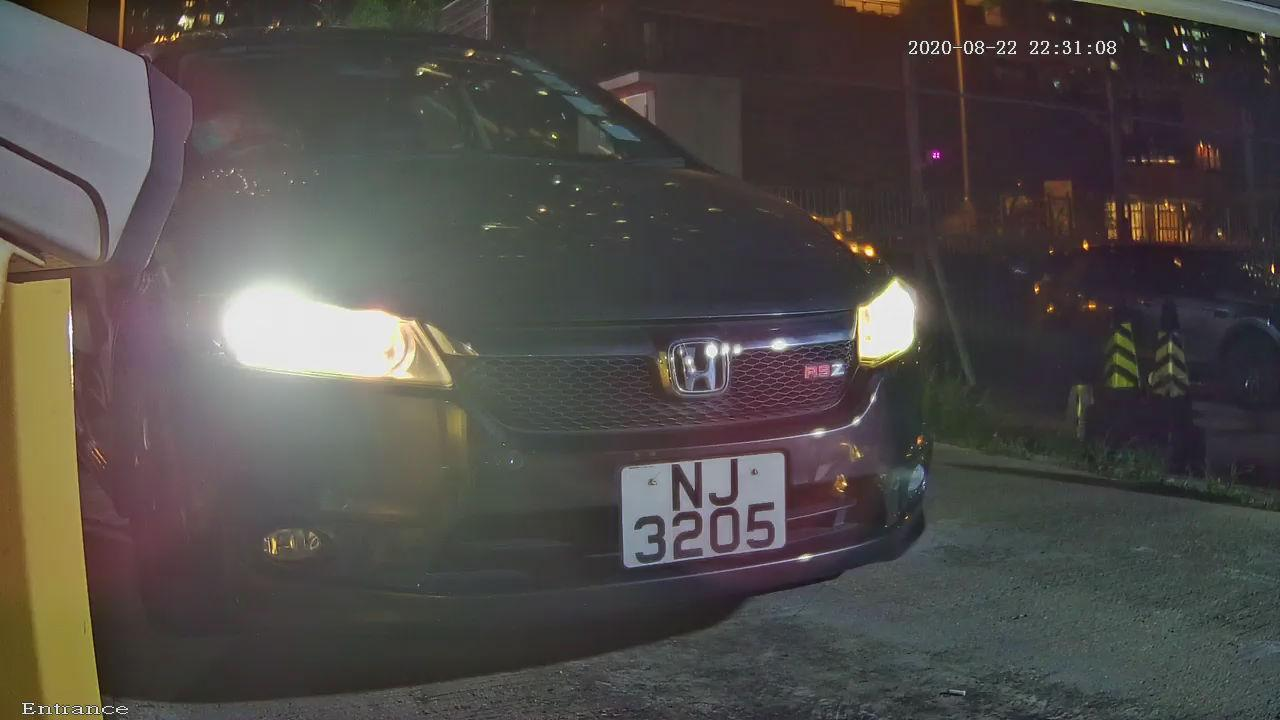Car: (1, 10, 1023, 688)
License Plate: (595, 444, 801, 576)
